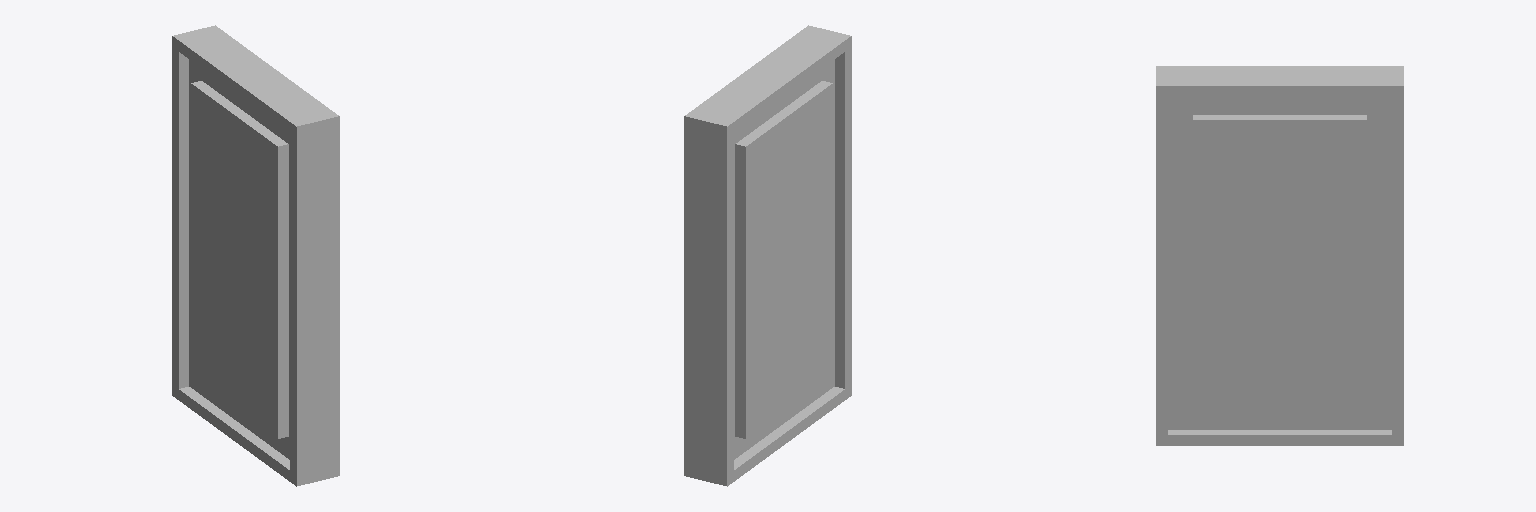
Rendered from door_tuto.obj.
3 views of the same model, side by side, from view 1: azimuth 30°, elevation 25°; view 2: azimuth 150°, elevation 25°; view 3: azimuth 270°, elevation 25° (orthographic).
Visible parts, largest first — view 1: door_tuto; view 2: door_tuto; view 3: door_tuto.
Part boxes in pixels (x1,y1,x2,y2): door_tuto: (172, 25, 339, 486); door_tuto: (684, 25, 851, 486); door_tuto: (1156, 66, 1403, 445).
Bounding box in the file's own units: 4 × 32 × 20.